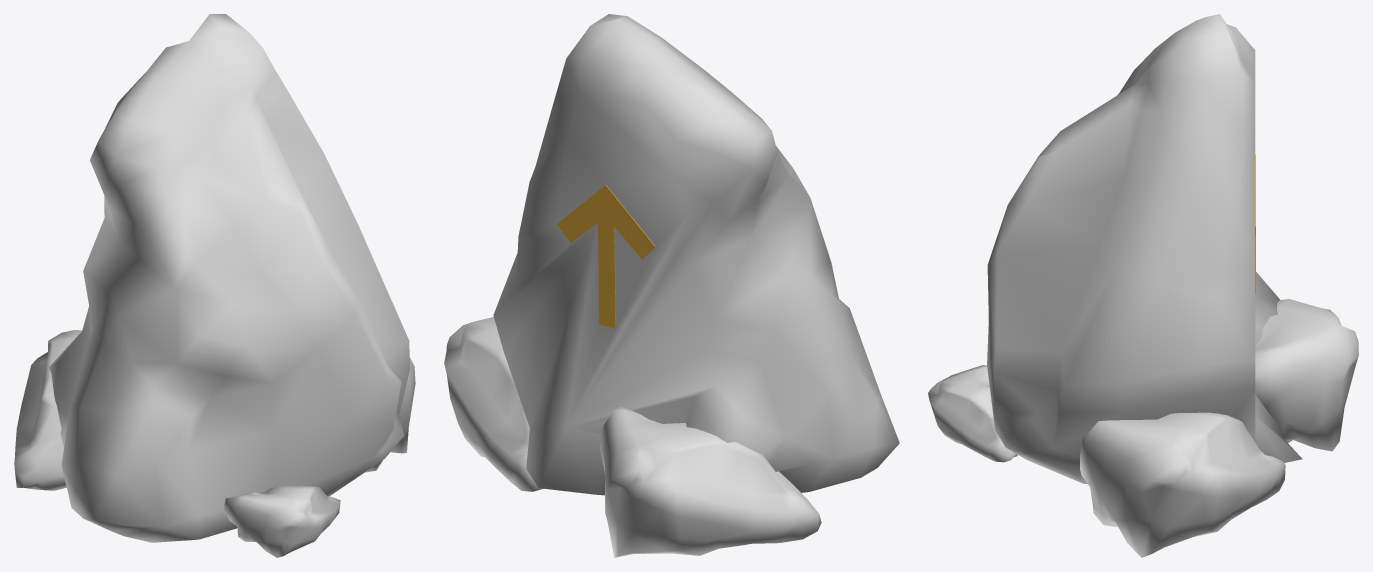
The model's file is Teiwaz.fbx.
3 views of the same model, side by side, from view 1: azimuth 30°, elevation 25°; view 2: azimuth 150°, elevation 25°; view 3: azimuth 270°, elevation 25° (orthographic). The views are drawn at different scales.
Visible parts, largest first — view 1: stone; view 2: stone, Teiwaz; view 3: stone.
Part boxes in pixels (x1,y1,x2,y2): stone: (14,14,415,557); stone: (444,14,899,557); Teiwaz: (557,185,655,328); stone: (928,14,1358,557).
Size of the model in its own units: 155 by 181 by 152.
